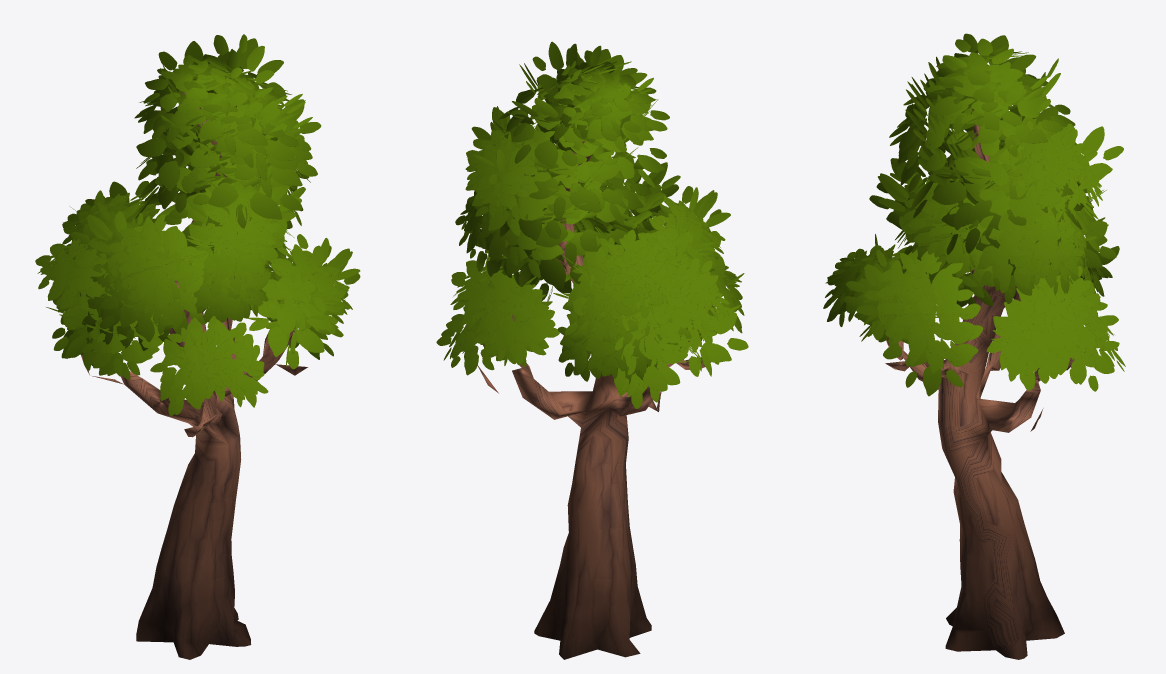
Rendered from CommonTree_2_far.gltf.
3 renders of one model, left to right at view 1: azimuth 30°, elevation 25°; view 2: azimuth 150°, elevation 25°; view 3: azimuth 270°, elevation 25°, orthographic. The views are drawn at different scales.
Parts seen in each view (by area): view 1: CommonTree_2; view 2: CommonTree_2; view 3: CommonTree_2.
Boxes of the visible parts, bbox=[...] form: CommonTree_2: bbox=[35, 34, 360, 659]; CommonTree_2: bbox=[436, 41, 748, 659]; CommonTree_2: bbox=[823, 33, 1125, 659].
Size of the model in its own units: 4.26 by 7.62 by 4.01.
Materials: 2 (2 with a texture image).
